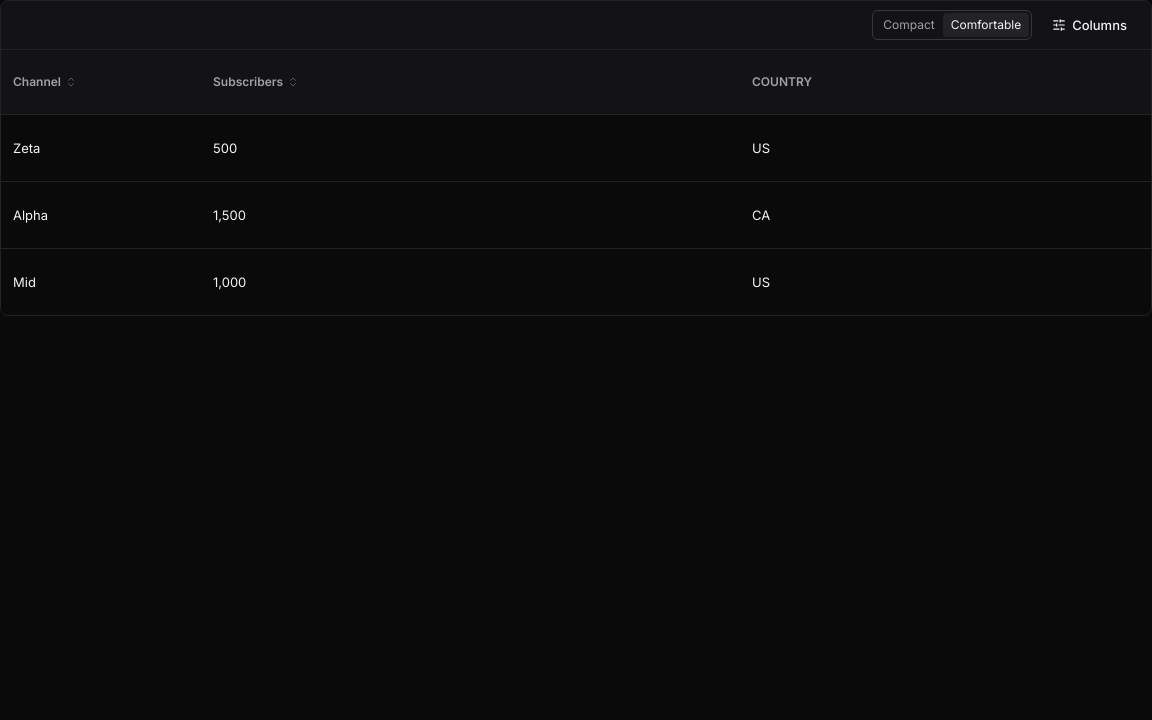
Test case: Table › column visibility: hiding a column removes its header and cells from the DOM
The width and height of the screenshot is (1152, 720).
Expected: the column heading "Country" is shown, [740,50,1151,114]
Click the button "Columns". click: (1090, 25)
box: [1040,9,1139,41]
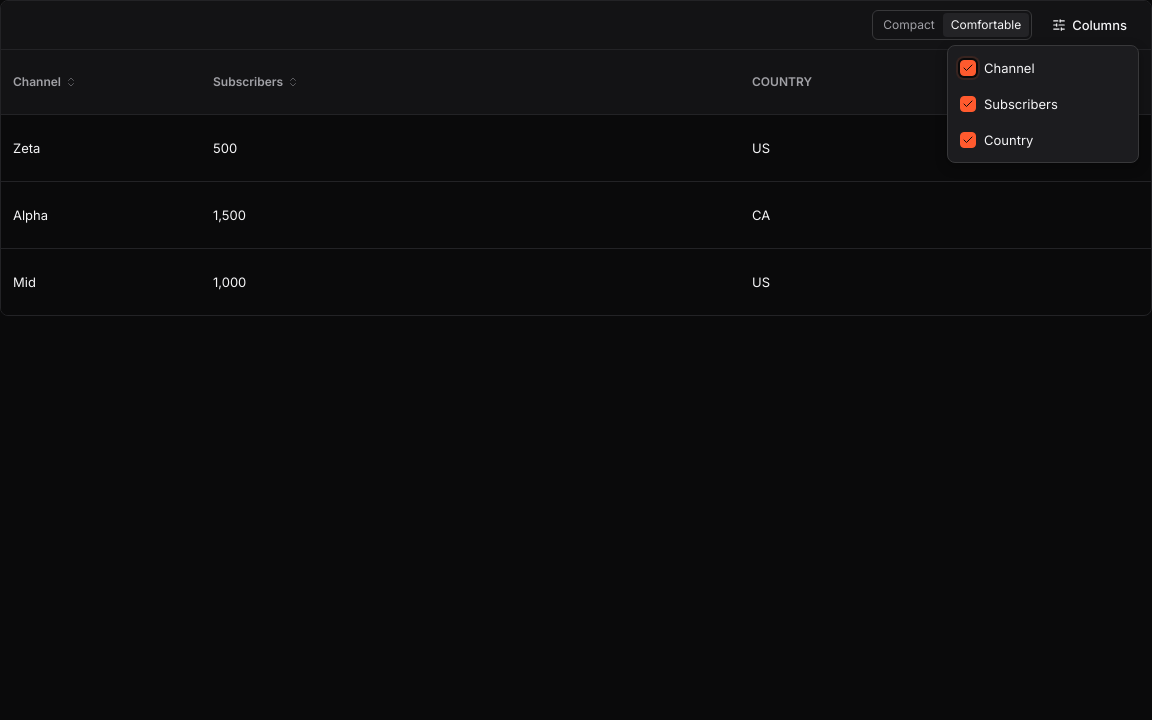
Click the 3rd checkbox named "Country". click: (968, 140)
box: [960,132,976,148]
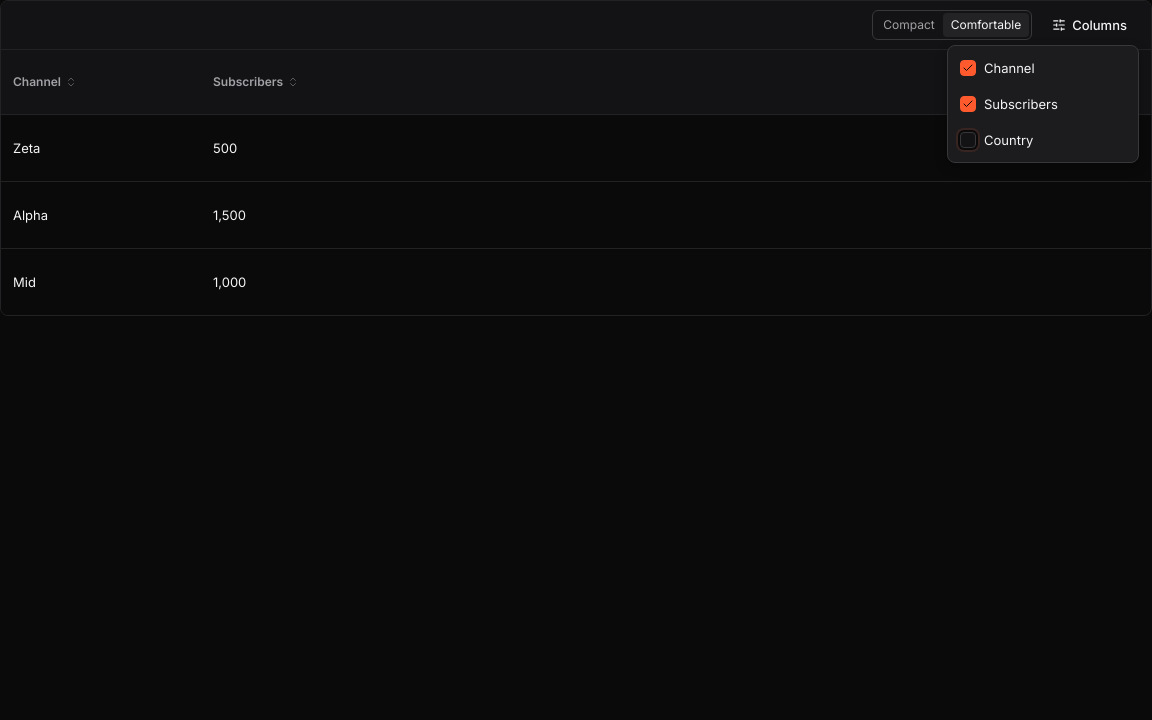
Result: the text "CA" is not shown
